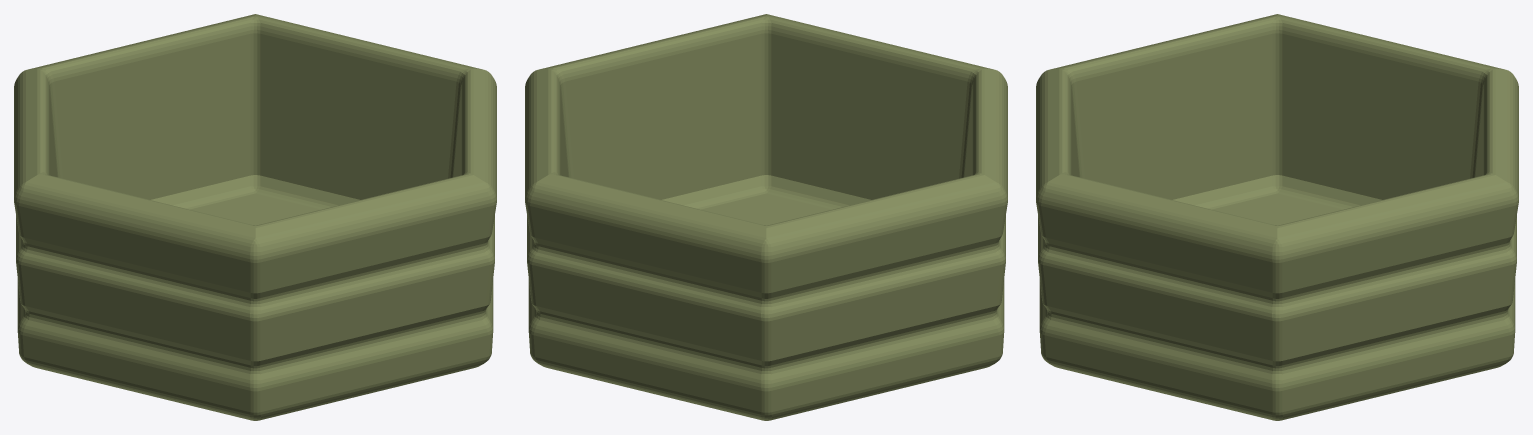
Rendered from hex-organizer.glb.
The picture shows the model from 3 angles, left to right: view 1: azimuth 30°, elevation 25°; view 2: azimuth 150°, elevation 25°; view 3: azimuth 270°, elevation 25°; orthographic projection.
Visible parts, largest first — view 1: Шестигранный органайзер; view 2: Шестигранный органайзер; view 3: Шестигранный органайзер.
Part boxes in pixels (x1,y1,x2,y2): Шестигранный органайзер: (14,14,496,420); Шестигранный органайзер: (525,14,1007,420); Шестигранный органайзер: (1036,14,1518,420).
Bounding box in the file's own units: 1.17 × 0.4483 × 1.02.
